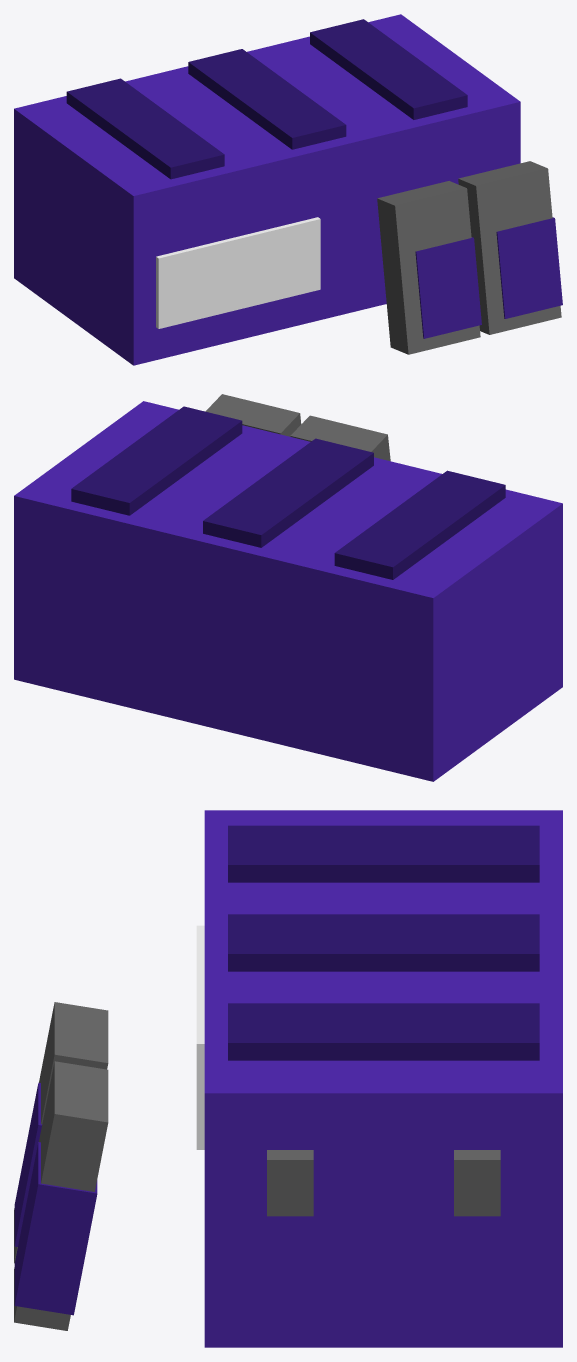
Rendered from ce_ammo_gae_chrifle_ion_c.obj.
3 renders of one model, top to bottom at view 1: azimuth 30°, elevation 25°; view 2: azimuth 150°, elevation 25°; view 3: azimuth 270°, elevation 25°, orthographic. The views are drawn at different scales.
Parts seen in each view (by area): view 1: ce_ammo_gae_chrifle_ion_c_0, ce_ammo_gae_chrifle_ion_c_4, ce_ammo_gae_chrifle_ion_c_7, ce_ammo_gae_chrifle_ion_c_9, ce_ammo_gae_chrifle_ion_c_1, ce_ammo_gae_chrifle_ion_c_2, ce_ammo_gae_chrifle_ion_c_3, ce_ammo_gae_chrifle_ion_c_8, ce_ammo_gae_chrifle_ion_c_10; view 2: ce_ammo_gae_chrifle_ion_c_0, ce_ammo_gae_chrifle_ion_c_3, ce_ammo_gae_chrifle_ion_c_1, ce_ammo_gae_chrifle_ion_c_2, ce_ammo_gae_chrifle_ion_c_7, ce_ammo_gae_chrifle_ion_c_9; view 3: ce_ammo_gae_chrifle_ion_c_0, ce_ammo_gae_chrifle_ion_c_1, ce_ammo_gae_chrifle_ion_c_2, ce_ammo_gae_chrifle_ion_c_3, ce_ammo_gae_chrifle_ion_c_10, ce_ammo_gae_chrifle_ion_c_9, ce_ammo_gae_chrifle_ion_c_7, ce_ammo_gae_chrifle_ion_c_5, ce_ammo_gae_chrifle_ion_c_6, ce_ammo_gae_chrifle_ion_c_4, ce_ammo_gae_chrifle_ion_c_8.
Part boxes in pixels (<box>): ce_ammo_gae_chrifle_ion_c_0: <box>14,14,520,365</box>; ce_ammo_gae_chrifle_ion_c_4: <box>156,217,320,328</box>; ce_ammo_gae_chrifle_ion_c_7: <box>377,181,480,354</box>; ce_ammo_gae_chrifle_ion_c_9: <box>458,161,561,334</box>; ce_ammo_gae_chrifle_ion_c_1: <box>66,78,224,179</box>; ce_ammo_gae_chrifle_ion_c_2: <box>188,49,346,149</box>; ce_ammo_gae_chrifle_ion_c_3: <box>310,19,467,119</box>; ce_ammo_gae_chrifle_ion_c_8: <box>415,237,481,338</box>; ce_ammo_gae_chrifle_ion_c_10: <box>496,217,562,318</box>; ce_ammo_gae_chrifle_ion_c_0: <box>14,401,562,781</box>; ce_ammo_gae_chrifle_ion_c_3: <box>71,406,242,515</box>; ce_ammo_gae_chrifle_ion_c_1: <box>334,470,505,579</box>; ce_ammo_gae_chrifle_ion_c_2: <box>203,438,373,547</box>; ce_ammo_gae_chrifle_ion_c_7: <box>290,415,390,461</box>; ce_ammo_gae_chrifle_ion_c_9: <box>205,394,301,436</box>; ce_ammo_gae_chrifle_ion_c_0: <box>204,810,562,1347</box>; ce_ammo_gae_chrifle_ion_c_1: <box>228,825,539,882</box>; ce_ammo_gae_chrifle_ion_c_2: <box>228,914,539,971</box>; ce_ammo_gae_chrifle_ion_c_3: <box>228,1003,539,1060</box>; ce_ammo_gae_chrifle_ion_c_10: <box>14,1142,97,1315</box>; ce_ammo_gae_chrifle_ion_c_9: <box>14,1061,108,1330</box>; ce_ammo_gae_chrifle_ion_c_7: <box>14,1002,108,1263</box>; ce_ammo_gae_chrifle_ion_c_5: <box>267,1150,313,1216</box>; ce_ammo_gae_chrifle_ion_c_6: <box>454,1150,500,1216</box>; ce_ammo_gae_chrifle_ion_c_4: <box>196,925,204,1149</box>; ce_ammo_gae_chrifle_ion_c_8: <box>14,1082,42,1246</box>.
Bounding box in the file's own units: 0.89 × 0.385 × 0.7045.
